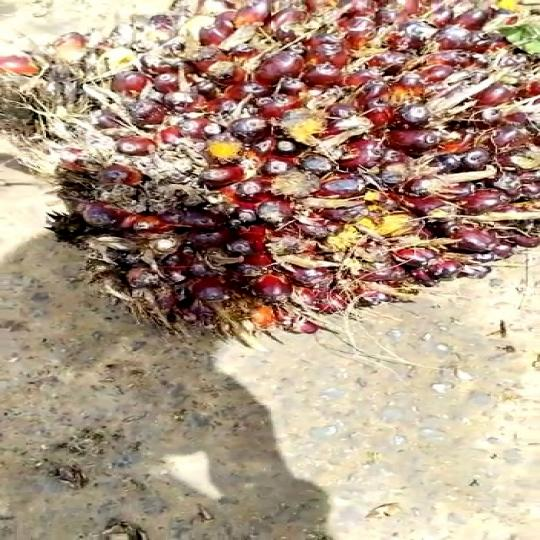masak: (0, 0, 540, 336)
